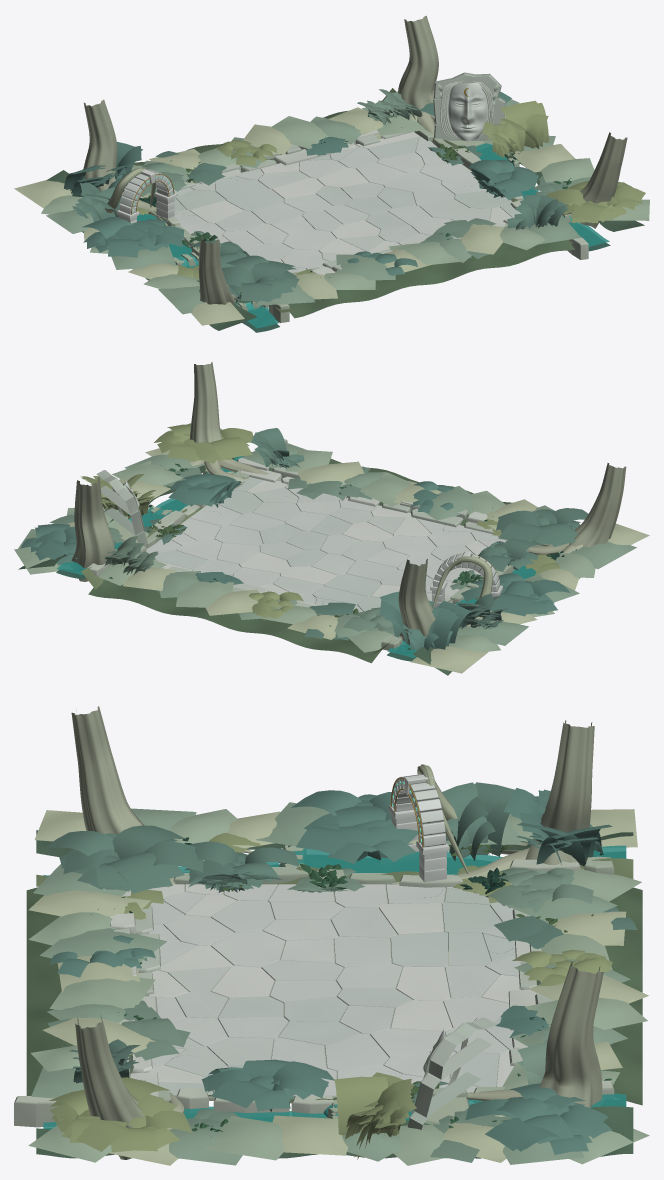
3 renders of one model, top to bottom at view 1: azimuth 30°, elevation 25°; view 2: azimuth 150°, elevation 25°; view 3: azimuth 270°, elevation 25°, orthographic. The views are drawn at different scales.
Parts seen in each view (by area): view 1: courtyard--stone-pale, fern-banks--foliage, fern-banks--groundcover, root-banks--bark, boundary-masonry--stone-dark, statue-east--stone-pale, boundary-masonry--stone-pale, water-channels--water, arch-west--stone-pale, fern-banks--foliage--solid-leaf; view 2: courtyard--stone-pale, fern-banks--foliage, fern-banks--groundcover, root-banks--bark, boundary-masonry--stone-dark, boundary-masonry--stone-pale, statue-east--stone-pale, water-channels--water, arch-west--stone-pale, fern-banks--foliage--solid-leaf; view 3: courtyard--stone-pale, fern-banks--foliage, fern-banks--groundcover, root-banks--bark, boundary-masonry--stone-dark, boundary-masonry--stone-pale, statue-east--stone-pale, water-channels--water, arch-west--stone-pale, fern-banks--foliage--solid-leaf.
Part boxes in pixels (<box>): courtyard--stone-pale: <box>140,132,521,272</box>; fern-banks--foliage: <box>64,89,645,304</box>; fern-banks--groundcover: <box>14,99,649,325</box>; root-banks--bark: <box>83,15,627,304</box>; boundary-masonry--stone-dark: <box>46,88,644,330</box>; statue-east--stone-pale: <box>433,72,505,146</box>; boundary-masonry--stone-pale: <box>123,129,588,322</box>; water-channels--water: <box>136,143,609,328</box>; arch-west--stone-pale: <box>116,169,176,223</box>; fern-banks--foliage--solid-leaf: <box>139,127,571,293</box>; courtyard--stone-pale: <box>146,477,507,613</box>; fern-banks--foliage: <box>20,423,588,650</box>; fern-banks--groundcover: <box>14,428,649,673</box>; root-banks--bark: <box>71,362,626,645</box>; boundary-masonry--stone-dark: <box>18,458,580,675</box>; boundary-masonry--stone-pale: <box>87,439,541,650</box>; statue-east--stone-pale: <box>96,470,148,548</box>; water-channels--water: <box>57,451,536,657</box>; arch-west--stone-pale: <box>430,551,502,607</box>; fern-banks--foliage--solid-leaf: <box>107,463,576,649</box>; courtyard--stone-pale: <box>147,884,522,1100</box>; fern-banks--foliage: <box>44,782,637,1162</box>; fern-banks--groundcover: <box>28,802,649,1165</box>; root-banks--bark: <box>71,706,603,1159</box>; boundary-masonry--stone-dark: <box>26,830,642,1158</box>; boundary-masonry--stone-pale: <box>14,856,614,1127</box>; statue-east--stone-pale: <box>407,1017,496,1129</box>; water-channels--water: <box>43,845,626,1129</box>; arch-west--stone-pale: <box>388,774,449,882</box>; fern-banks--foliage--solid-leaf: <box>78,837,611,1137</box>.
Size of the model in its own units: 24.64 by 5.45 by 18.11.
